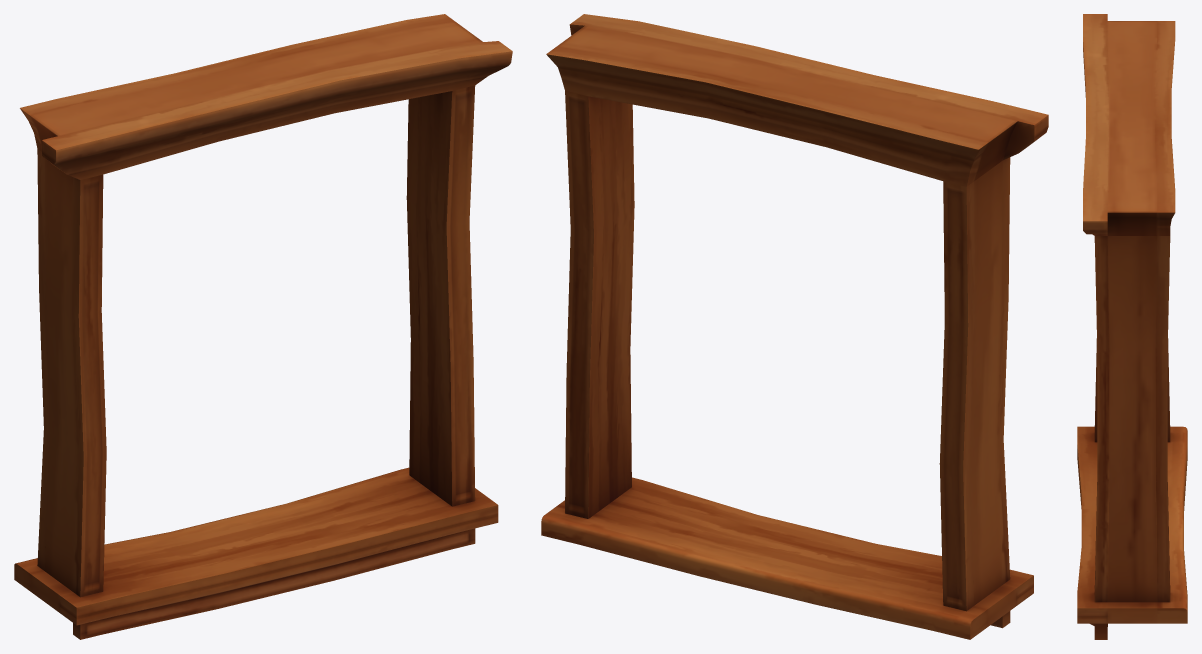
Rendered from PropWindow01TypeE_1_2.FBX.
The picture shows the model from 3 angles, left to right: view 1: azimuth 30°, elevation 25°; view 2: azimuth 150°, elevation 25°; view 3: azimuth 270°, elevation 25°; orthographic projection. The views are drawn at different scales.
Parts seen in each view (by area): view 1: PropWindow01TypeE_1_2; view 2: PropWindow01TypeE_1_2; view 3: PropWindow01TypeE_1_2.
Part boxes in pixels (box(x1,y1,x2,y2)): PropWindow01TypeE_1_2: box(14, 14, 512, 639); PropWindow01TypeE_1_2: box(541, 14, 1048, 639); PropWindow01TypeE_1_2: box(1077, 14, 1187, 639).
Size of what is drawn, in the model's own units: 1.87 by 1.99 by 0.4449.
